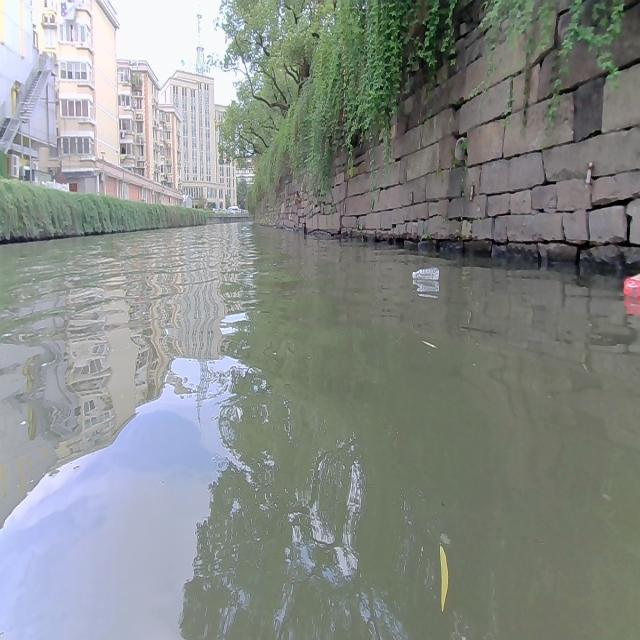bottle: (622, 270, 640, 296), (412, 267, 439, 281)
